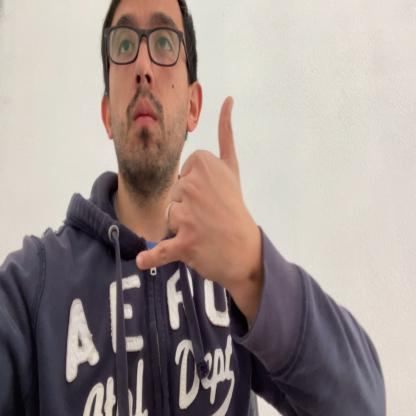Y: (136, 95, 254, 288)
